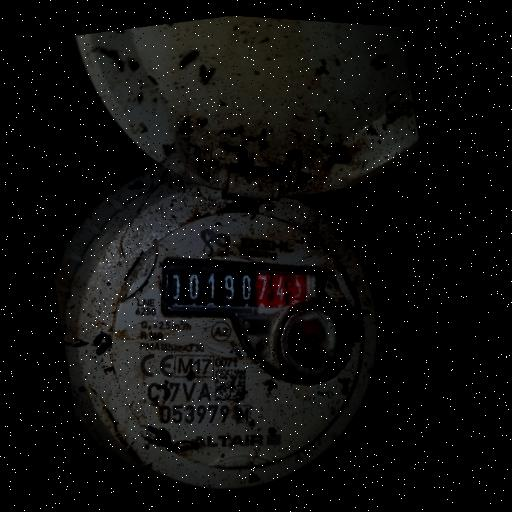0: (177, 266, 210, 310), (160, 266, 191, 309), (232, 269, 260, 310)
1: (195, 267, 227, 311)
4: (264, 270, 293, 311)
5: (280, 270, 311, 311)
7: (249, 269, 277, 310)
9: (211, 267, 247, 312)
border_water_meter_number: (158, 235, 334, 344)
